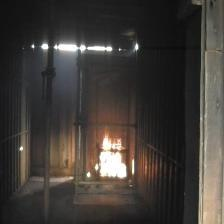fire: (96, 129, 133, 183)
